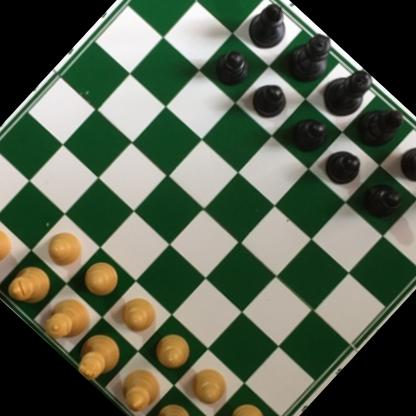black-bishop: (347, 93, 410, 157), (239, 0, 300, 59)
black-king: (315, 58, 381, 126)
black-knight: (392, 128, 416, 193)
black-pawn: (204, 40, 258, 94), (242, 75, 296, 128), (354, 175, 407, 228), (283, 111, 334, 163), (318, 143, 368, 192)
black-queen: (278, 27, 345, 94)
white-bishop: (0, 255, 62, 321), (110, 361, 172, 416)
white-king: (66, 324, 132, 389)
white-knight: (0, 218, 20, 283), (142, 396, 201, 416)
white-pawn: (146, 325, 200, 379), (111, 288, 164, 341), (76, 253, 127, 304), (184, 362, 233, 410), (40, 225, 89, 273), (221, 395, 276, 416)
white-queen: (32, 288, 99, 356)
